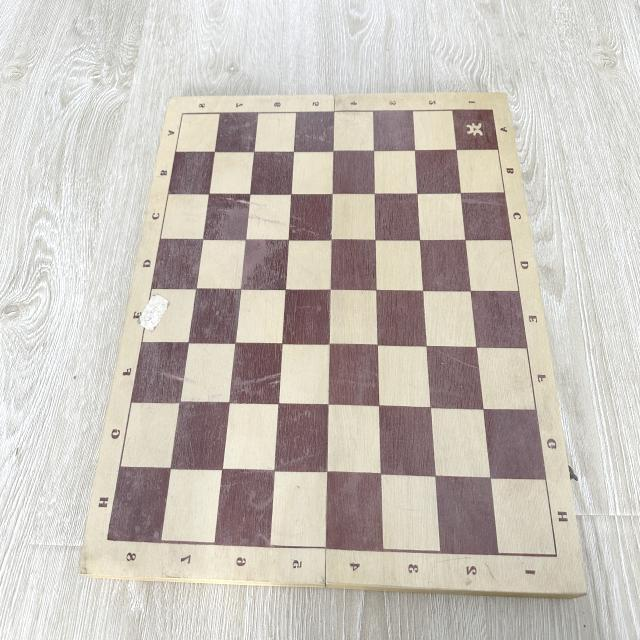chess-table-corners: (549, 546, 564, 566), (100, 530, 114, 549), (488, 103, 498, 116), (178, 107, 188, 120)
